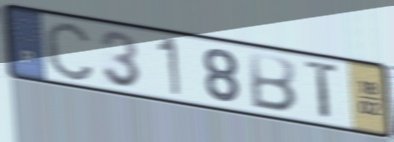1: (155, 37, 183, 99)
3: (97, 29, 143, 90)
8: (201, 47, 243, 104)
B: (247, 50, 299, 115)
C: (42, 19, 97, 83)
T: (303, 58, 343, 123)
